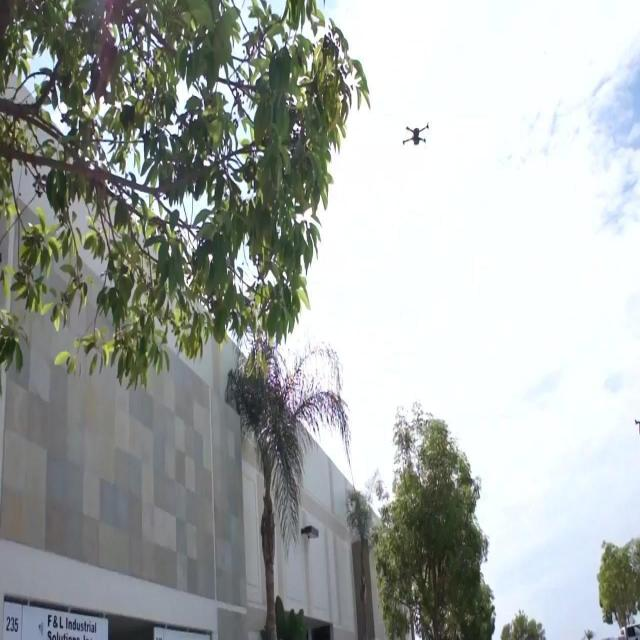UAV: (403, 122, 429, 146)
